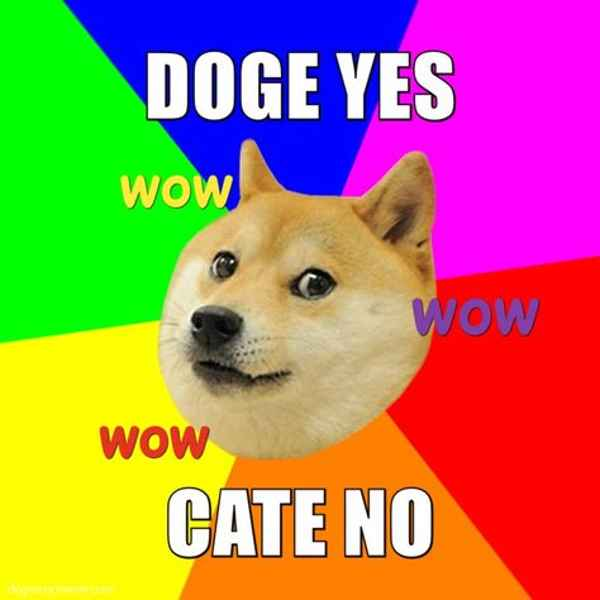doge: (129, 146, 447, 471)
